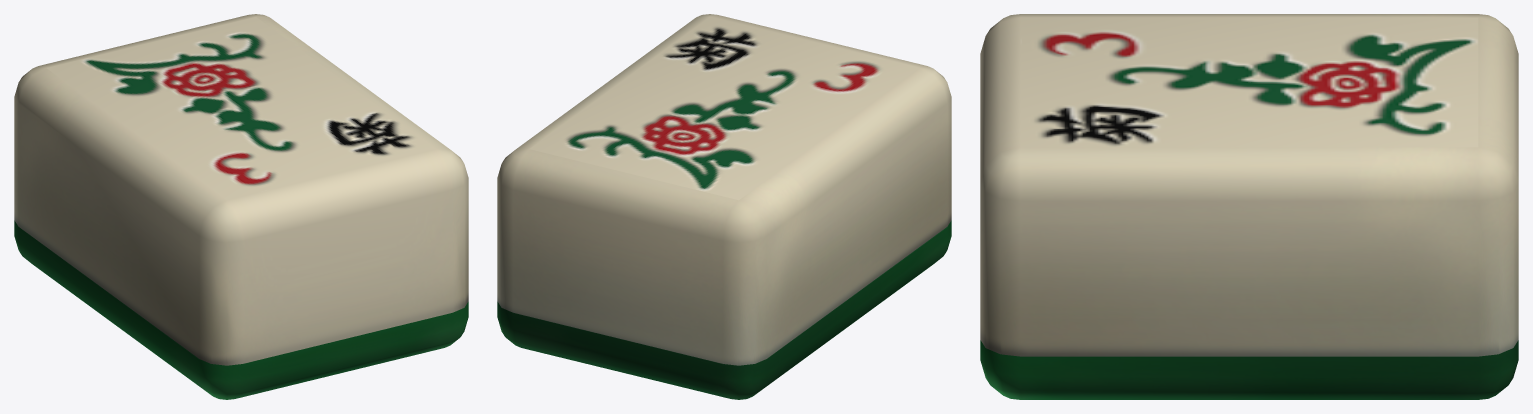
The model's file is DANPAI.fbx.
3 views of the same model, side by side, from view 1: azimuth 30°, elevation 25°; view 2: azimuth 150°, elevation 25°; view 3: azimuth 270°, elevation 25° (orthographic). The views are drawn at different scales.
Visible parts, largest first — view 1: DANPAI; view 2: DANPAI; view 3: DANPAI.
Part boxes in pixels (x1=…): DANPAI: x1=14, y1=14, x2=468, y2=399; DANPAI: x1=497, y1=14, x2=951, y2=399; DANPAI: x1=980, y1=14, x2=1518, y2=399.
Size of the model in its own units: 733 by 520 by 1019.
2 materials, 2 textured.
